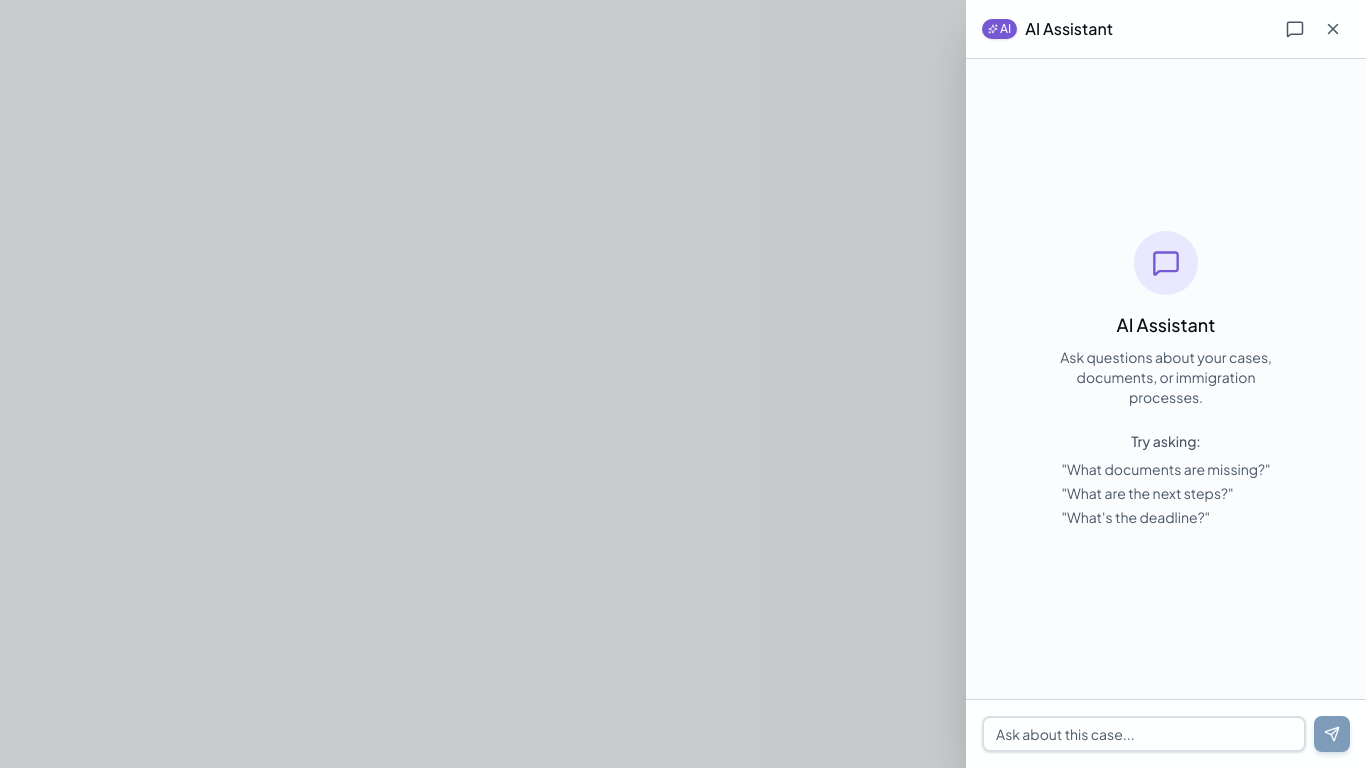
Test: ChatPanel › conversation history › clicking history button shows conversation list
Click the button titled "Conversation history" at point(1295, 29), box [1278,12,1312,46]
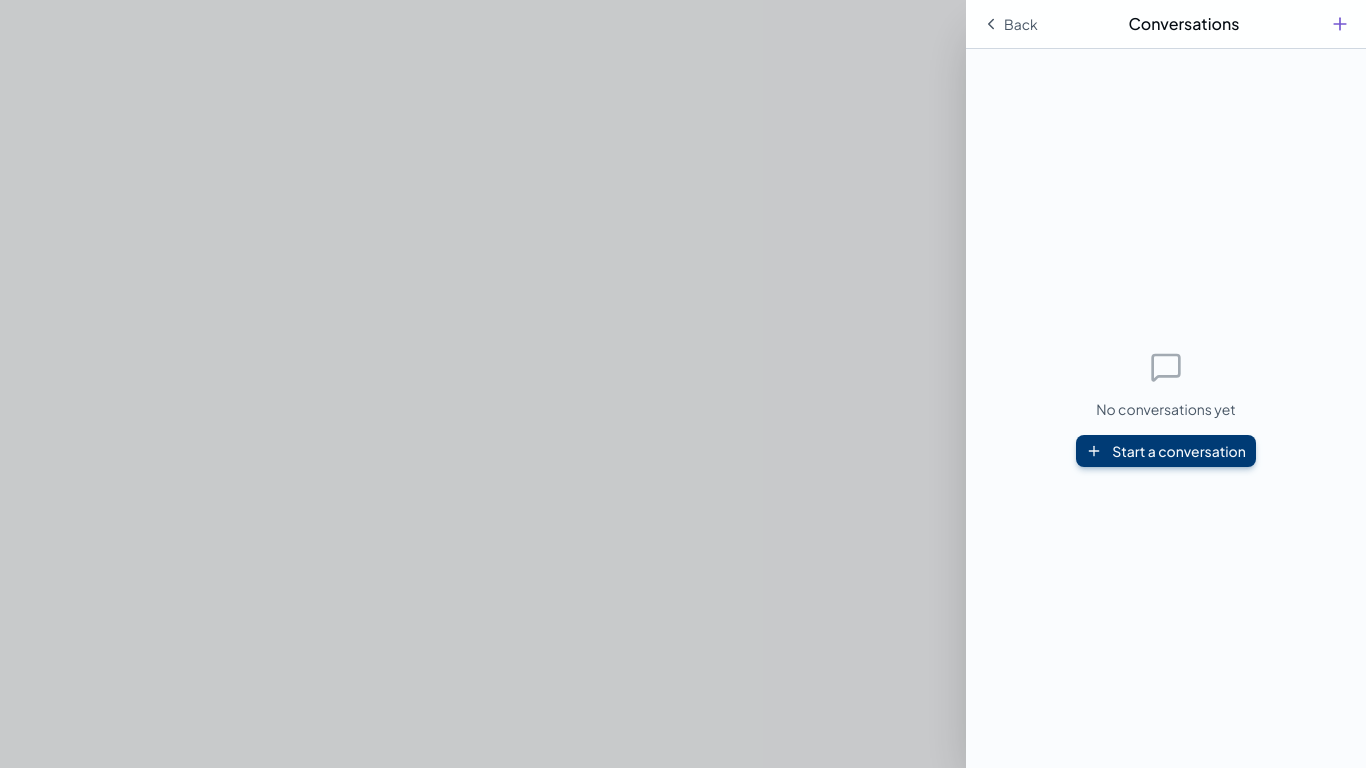
Expected: the text "Conversations" is shown, [1128,12,1239,36]
